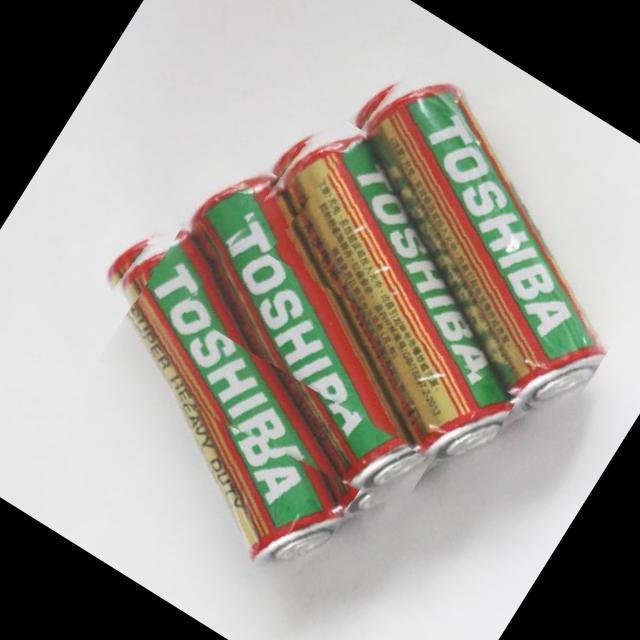Hazard: (98, 146, 516, 537), (182, 99, 595, 485), (16, 204, 428, 587), (268, 46, 640, 433)
